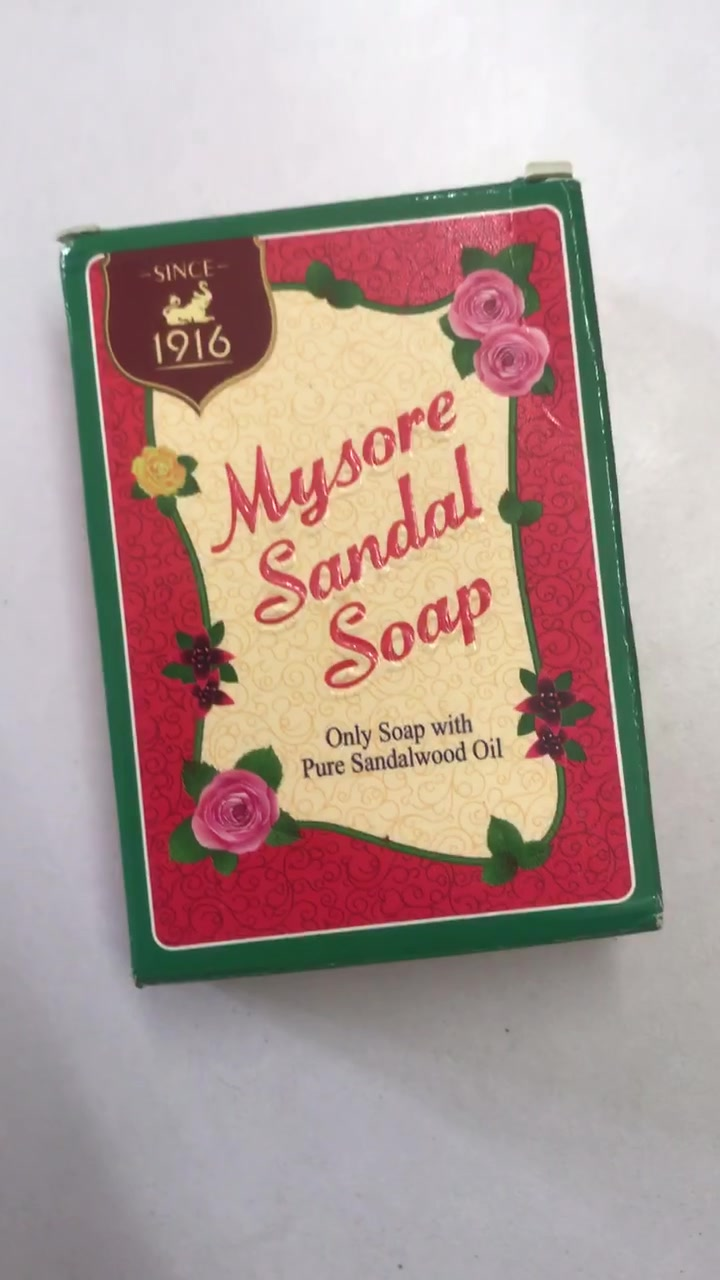mysore sandal soap: (69, 184, 666, 984)
